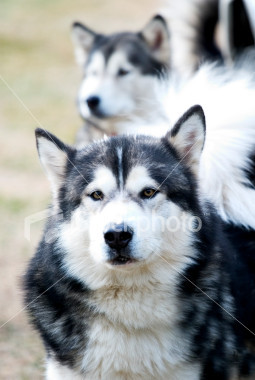dog: (20, 105, 254, 379), (66, 9, 190, 122)
